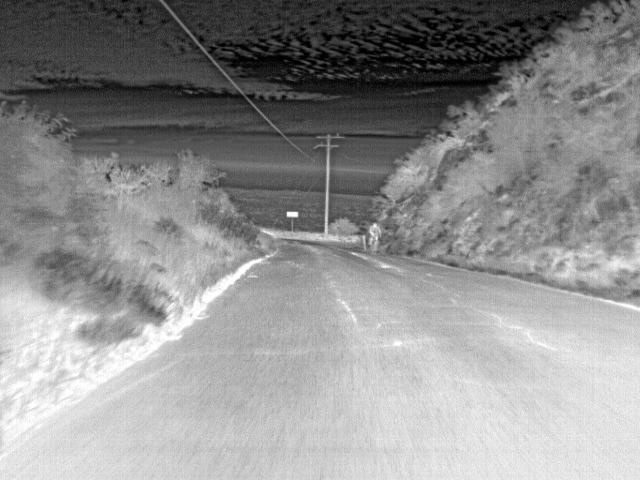person: (369, 221, 382, 239)
